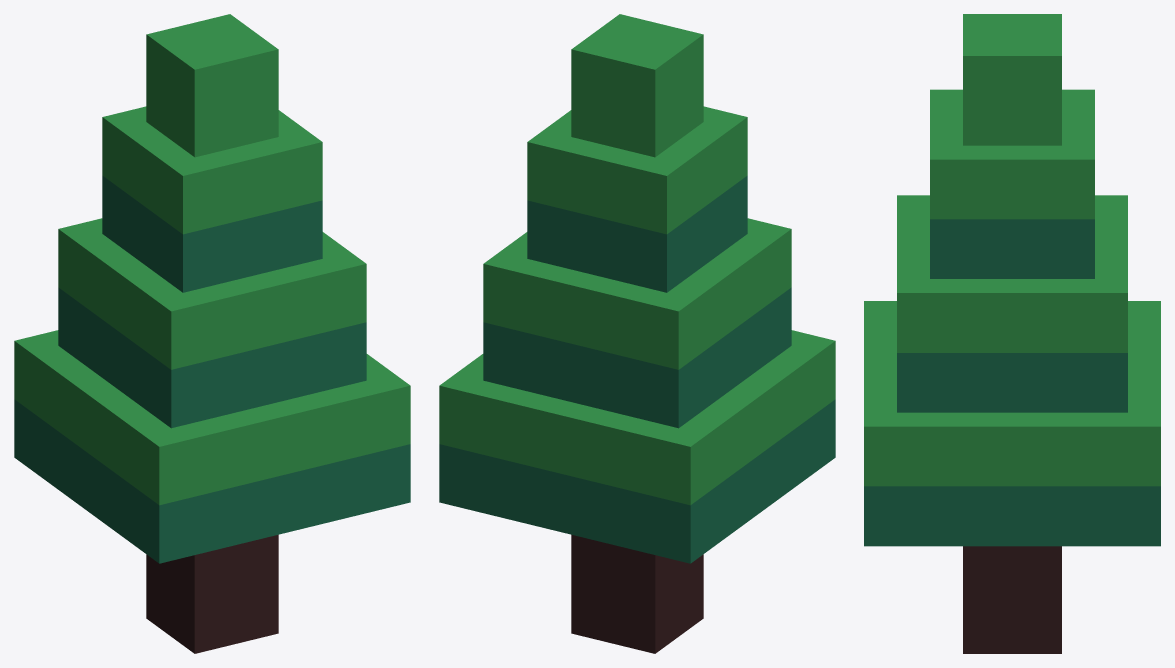
File: Tree03.obj
The picture shows the model from 3 angles, left to right: view 1: azimuth 30°, elevation 25°; view 2: azimuth 150°, elevation 25°; view 3: azimuth 270°, elevation 25°; orthographic projection. The views are drawn at different scales.
Bounding box in the file's own units: 0.9 × 2 × 0.9.
1 material, 1 textured.
